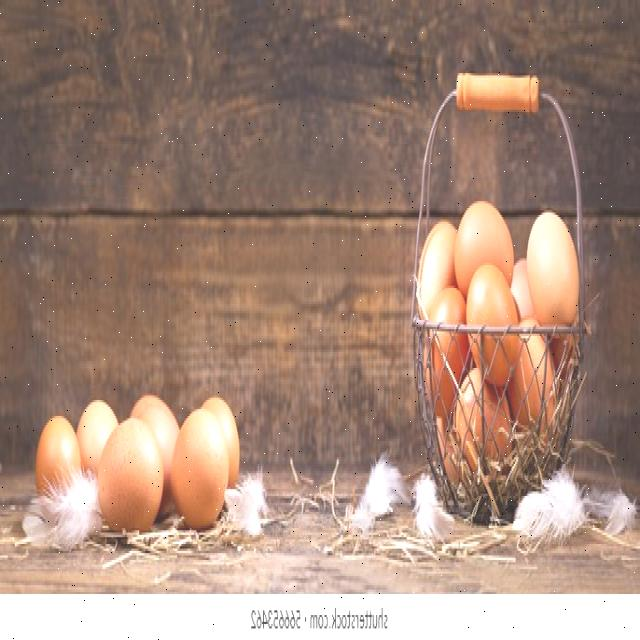Brown Egg: (168, 388, 241, 526), (96, 412, 164, 540), (528, 201, 580, 327), (456, 196, 516, 292)
